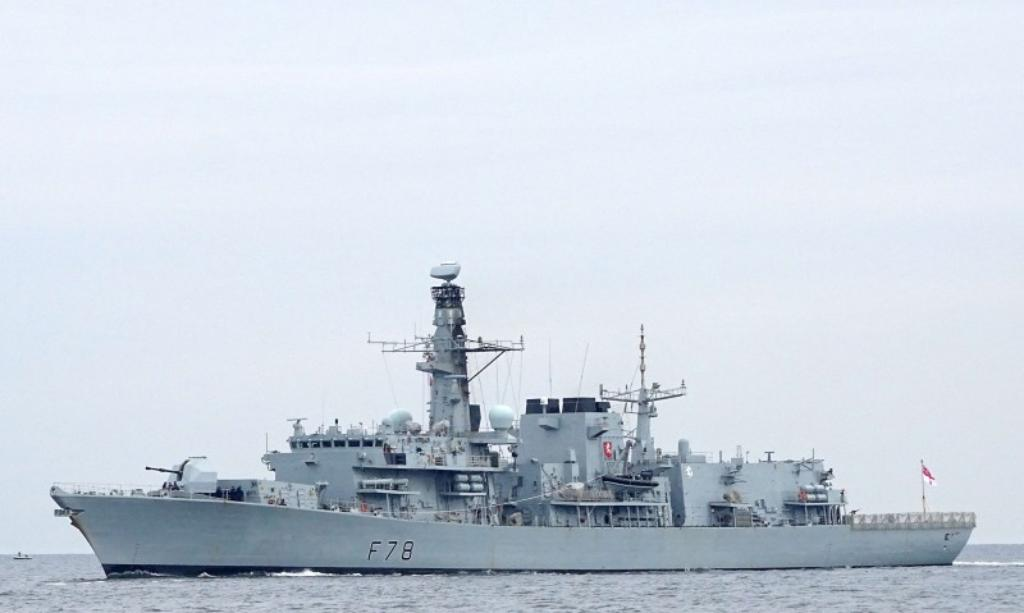Warship: (48, 259, 980, 577)
